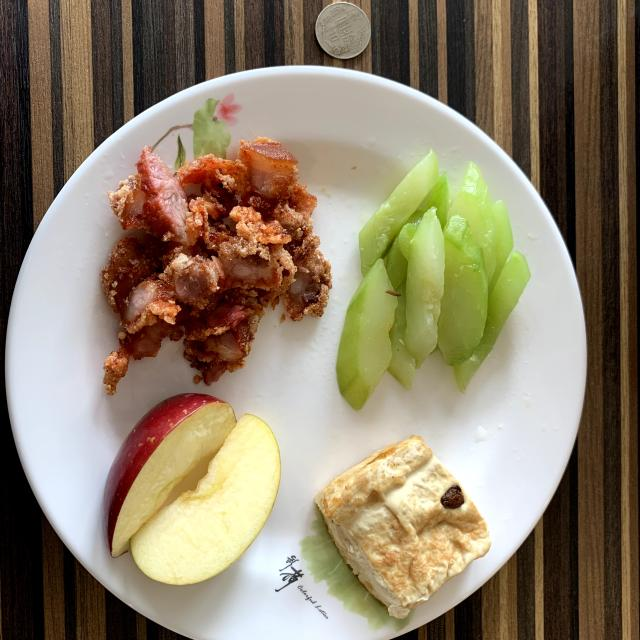apple -sliced-: (104, 394, 281, 585)
coin: (315, 2, 371, 59)
red grilled pork: (101, 138, 331, 394)
